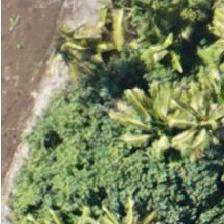coconut_tree: (104, 64, 194, 154), (25, 7, 115, 97), (52, 0, 142, 87), (153, 70, 223, 160)
